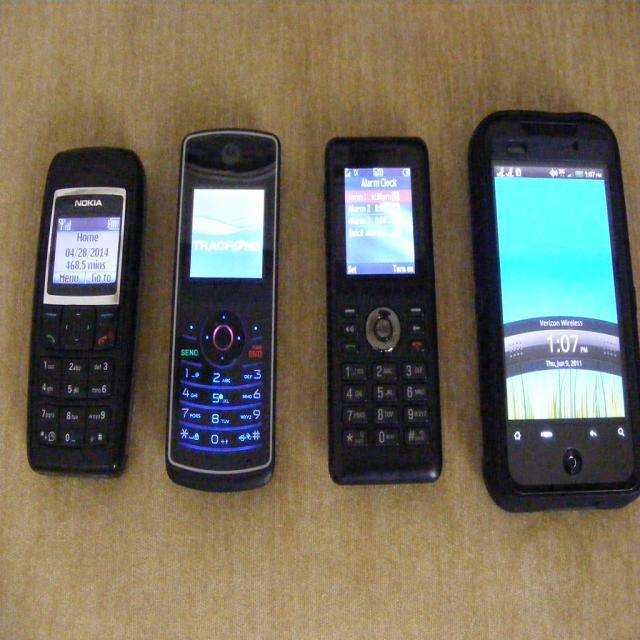cellphone: (468, 111, 640, 515), (166, 129, 280, 493), (325, 140, 440, 486), (32, 152, 127, 477)
